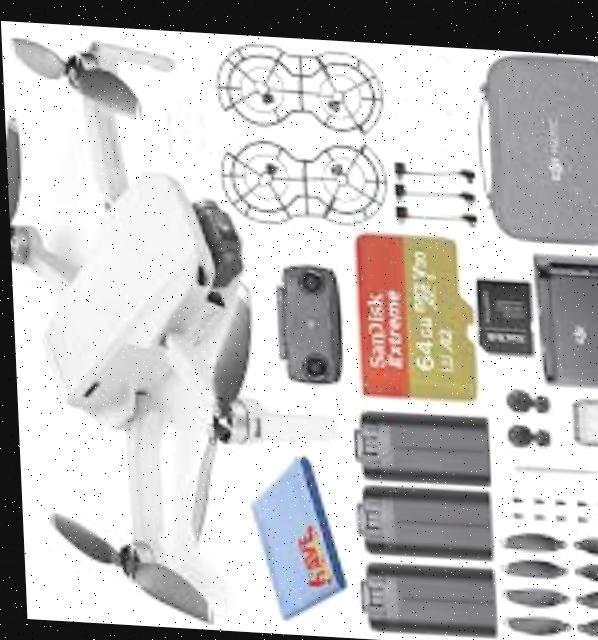drone: (1, 21, 338, 634)
